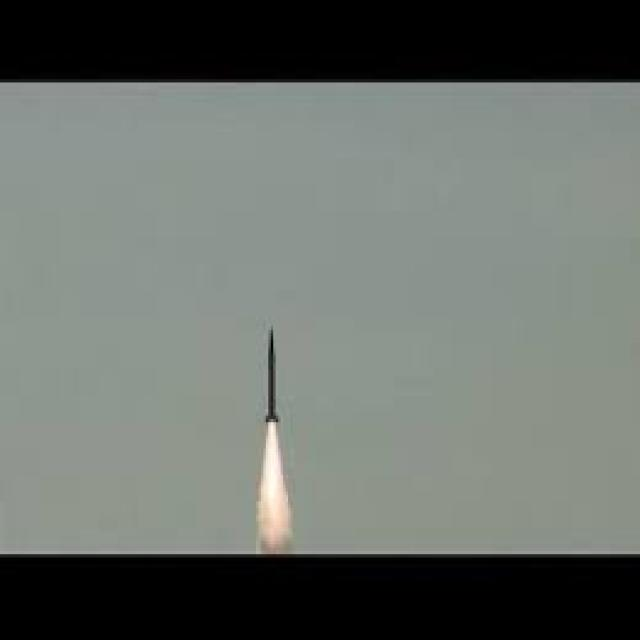Missile: (260, 325, 282, 436)
